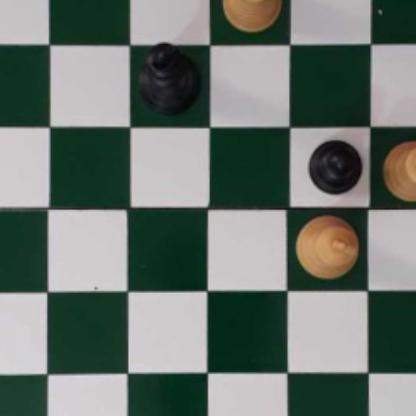black-king: (139, 42, 203, 115)
black-pawn: (308, 135, 362, 196)
white-bishop: (382, 137, 416, 201)
white-king: (294, 215, 360, 279)
white-rook: (222, 0, 281, 32)
